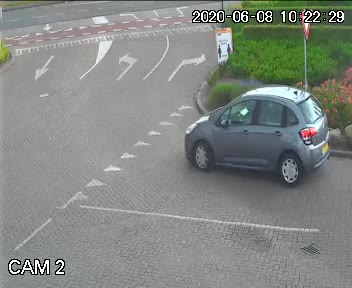car: (176, 84, 329, 188)
